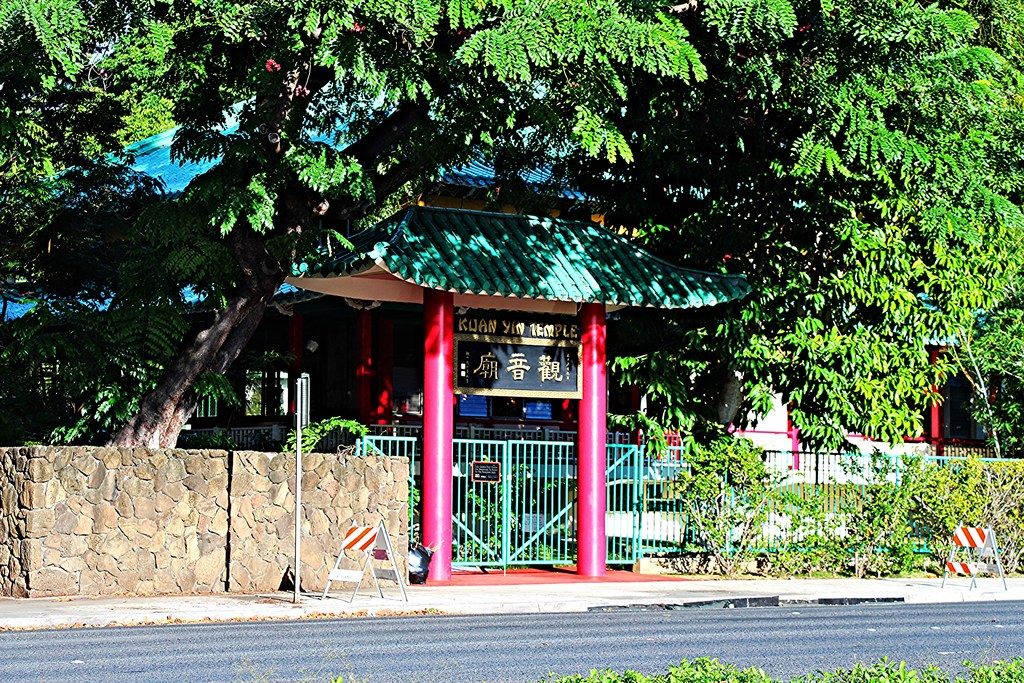Tree: (0, 0, 716, 456), (697, 0, 1023, 442)
